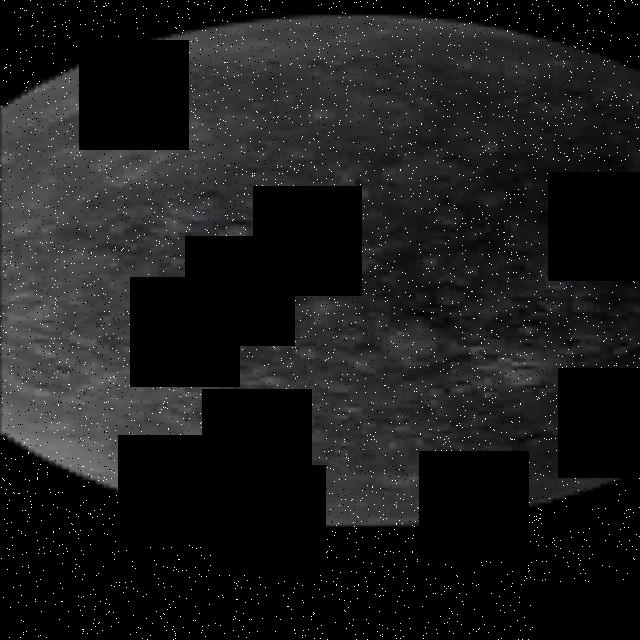Mercury: (0, 12, 640, 526)
